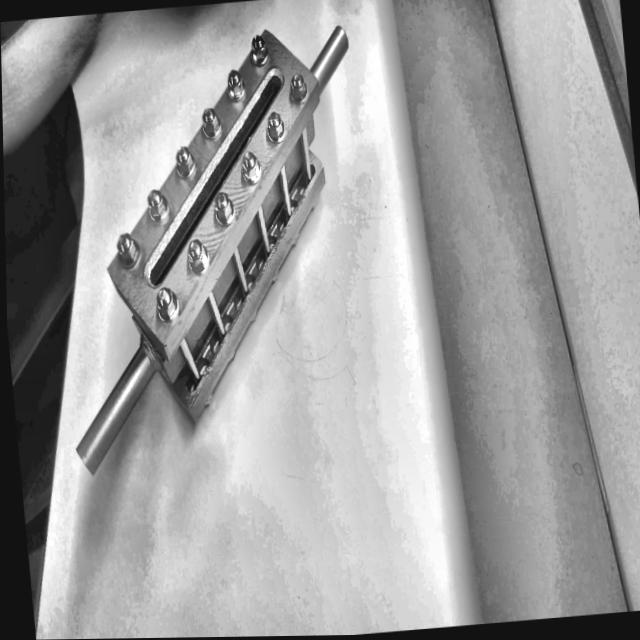ShuiWeiQi_12: (61, 17, 375, 435)
